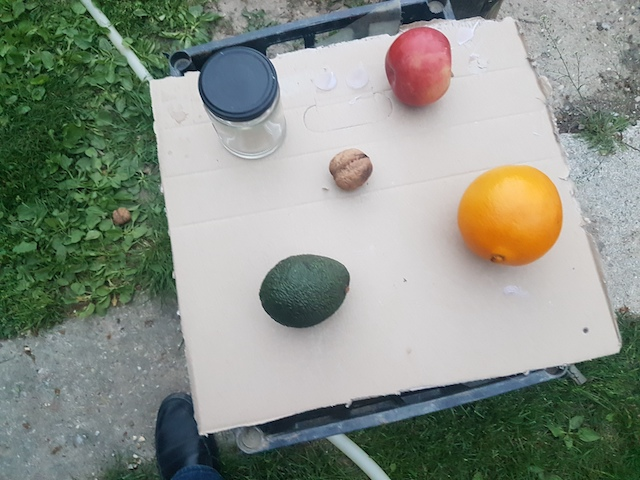apple: (380, 27, 463, 108)
avocado: (255, 252, 358, 326)
nut: (327, 145, 376, 191)
orange: (456, 162, 564, 276)
recipient: (194, 48, 287, 118)
